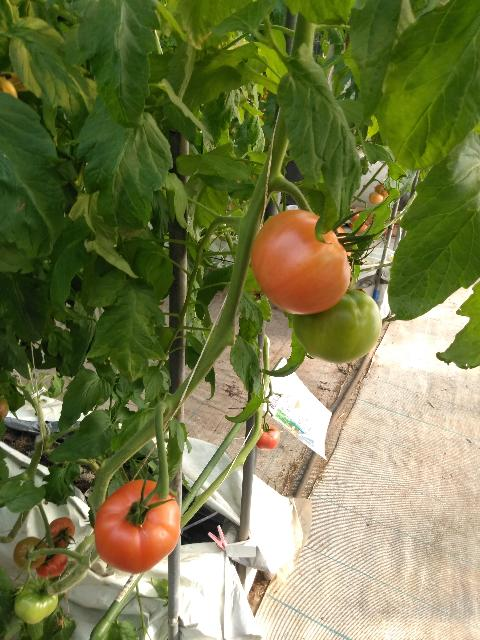b_fully_ripened: (94, 479, 181, 574), (35, 547, 68, 579), (256, 423, 280, 450)
b_green: (293, 290, 383, 365), (14, 578, 59, 624)
b_half_ripened: (250, 209, 350, 316), (13, 536, 48, 570), (45, 517, 75, 549), (369, 191, 383, 204)
